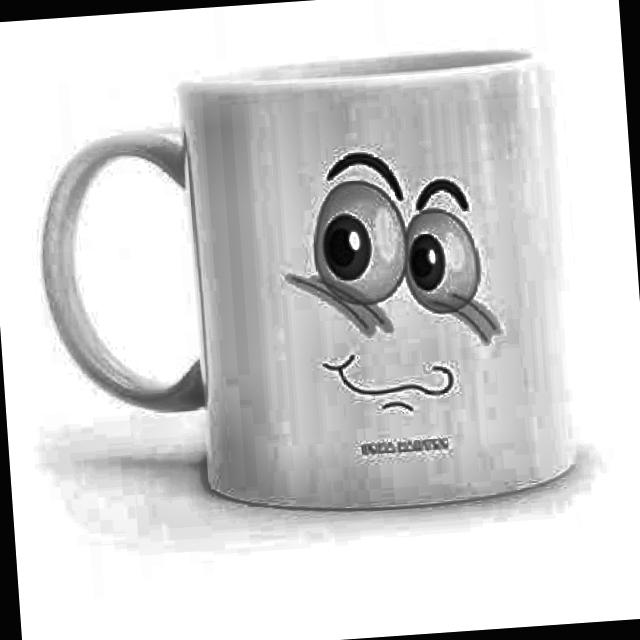Mug: (26, 38, 580, 535)
